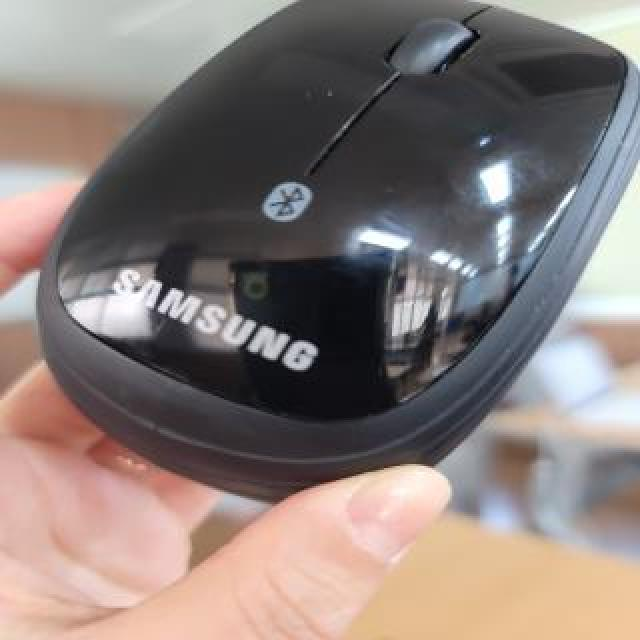mouse: (48, 0, 582, 465)
